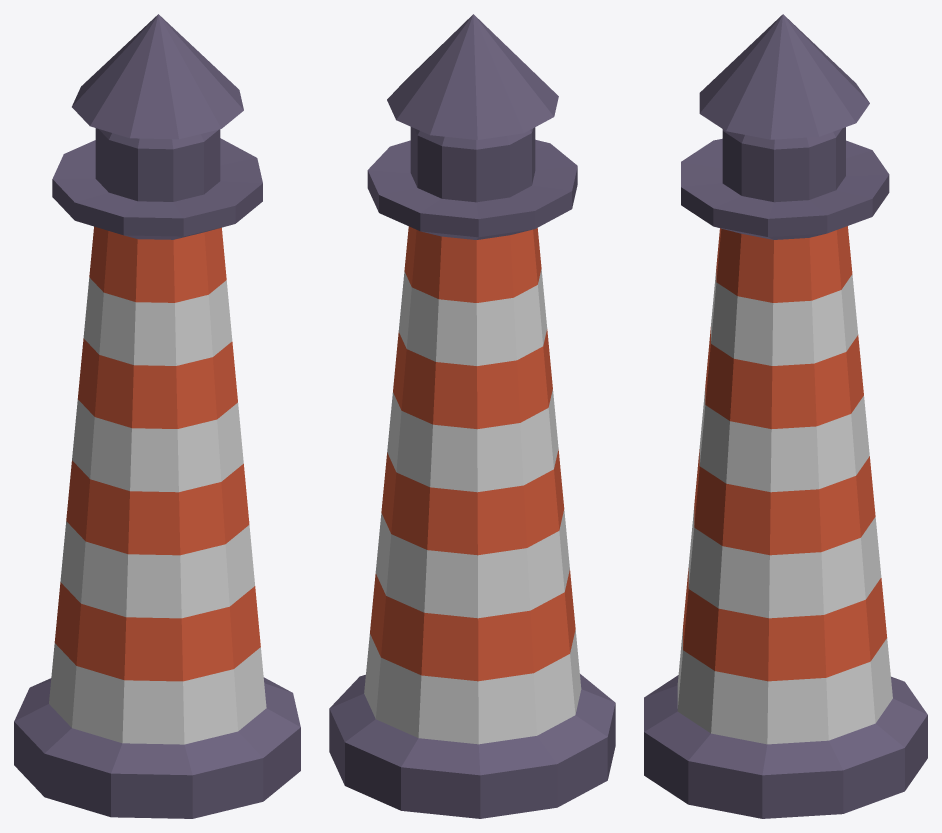
The model's file is LightHouse.fbx.
3 views of the same model, side by side, from view 1: azimuth 30°, elevation 25°; view 2: azimuth 150°, elevation 25°; view 3: azimuth 270°, elevation 25° (orthographic).
Visible parts, largest first — view 1: Cylinder; view 2: Cylinder; view 3: Cylinder.
Part boxes in pixels (left/top/right/bottom): Cylinder: left=14, top=14, right=300, bottom=818; Cylinder: left=329, top=14, right=615, bottom=818; Cylinder: left=644, top=14, right=927, bottom=818.
Size of the model in its own units: 261 by 747 by 258.
